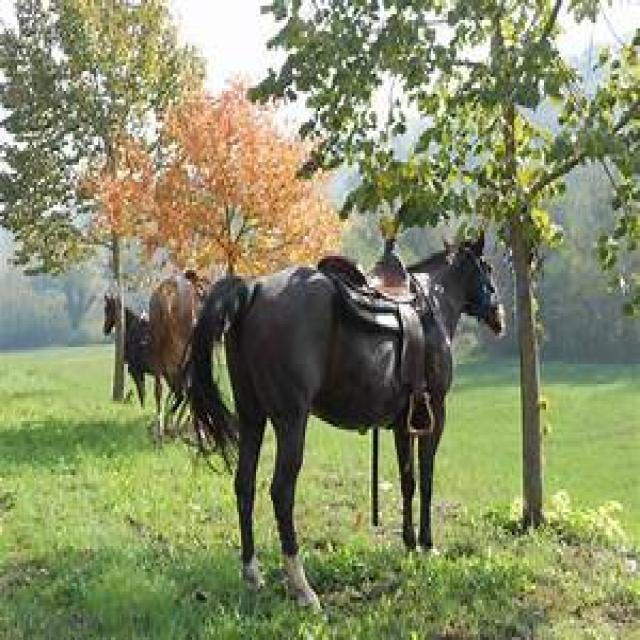animal: (187, 220, 510, 588), (85, 276, 182, 436)
